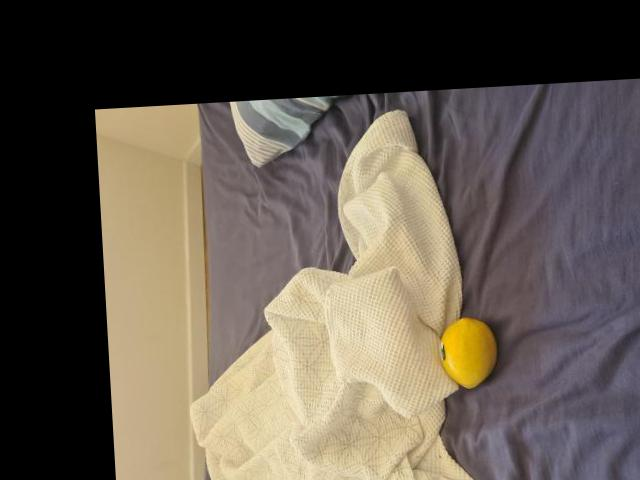lemon: (439, 313, 497, 391)
